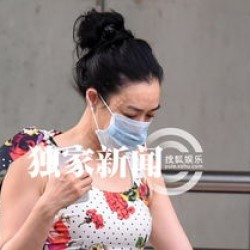mask: (87, 105, 158, 164)
